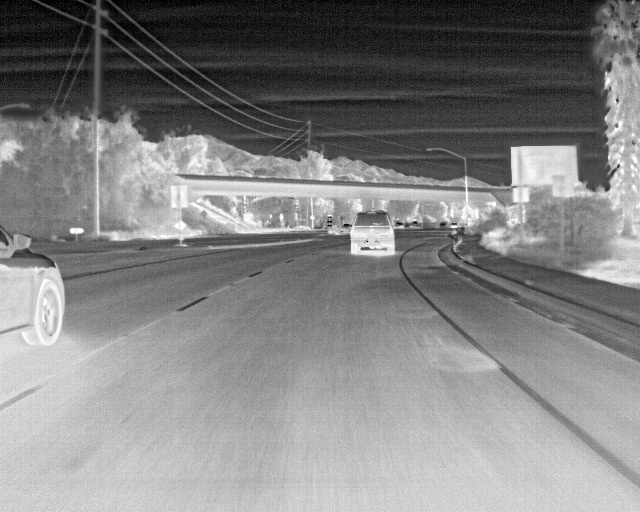vehicle: (1, 222, 66, 346), (349, 209, 396, 256)
